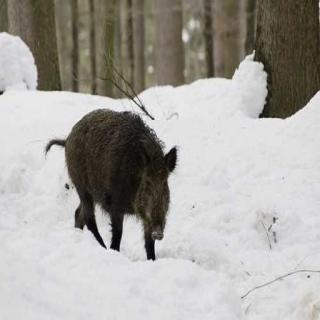Pig: (18, 86, 177, 258)
